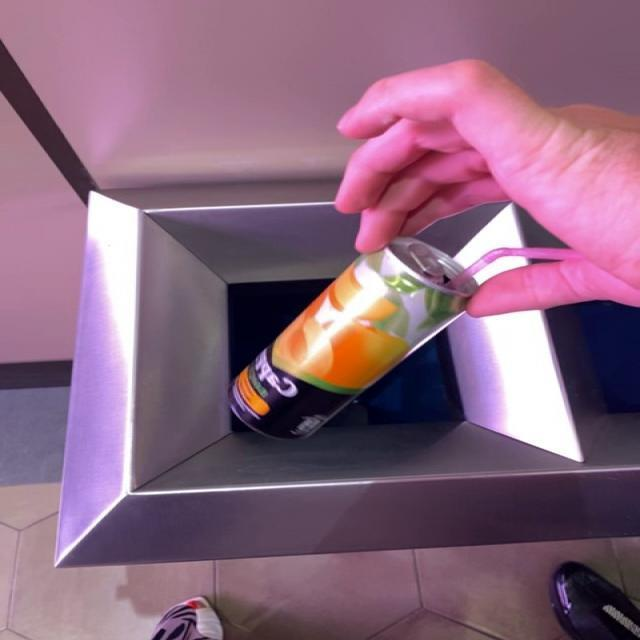Bin: (55, 183, 639, 568)
Metal: (229, 238, 573, 438)
